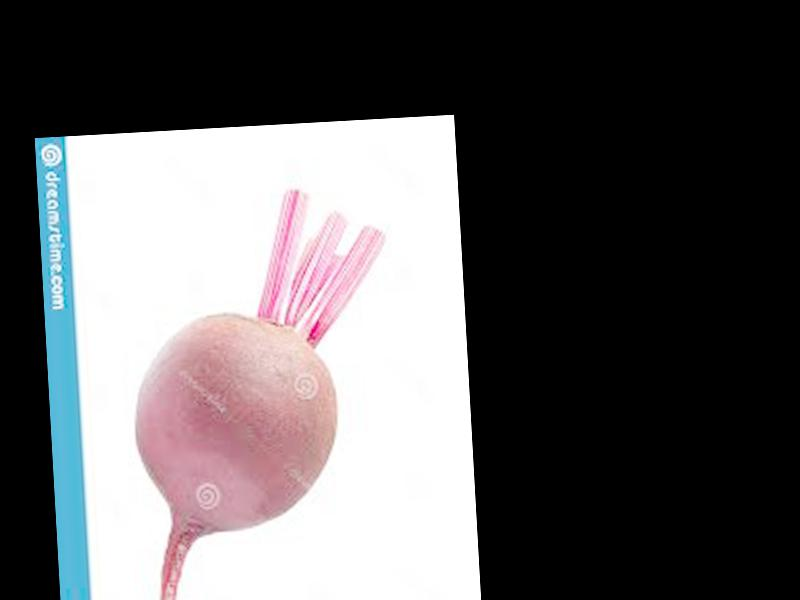Beet: (126, 186, 405, 600)
